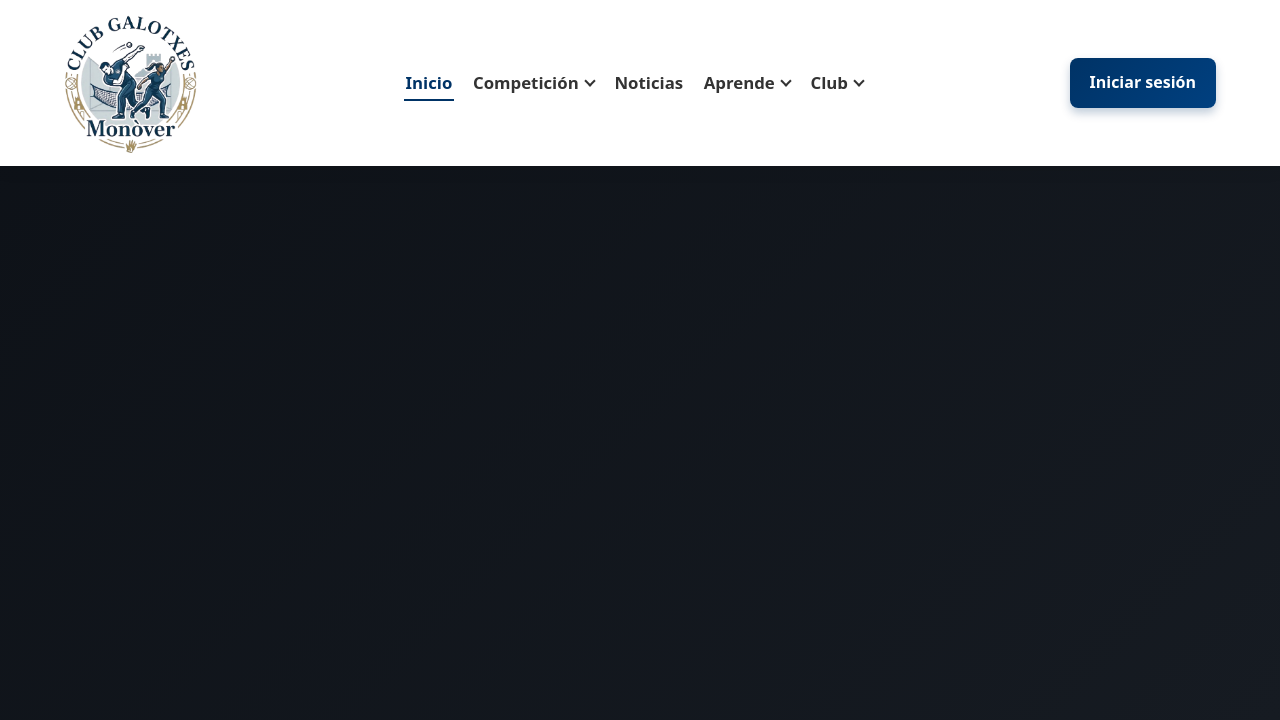
Navbar › opens each disclosure with its canonical children and keeps only one open
This screenshot has width=1280, height=720.
Click the button "Competición" at (533, 83), box [471,61,596,105]
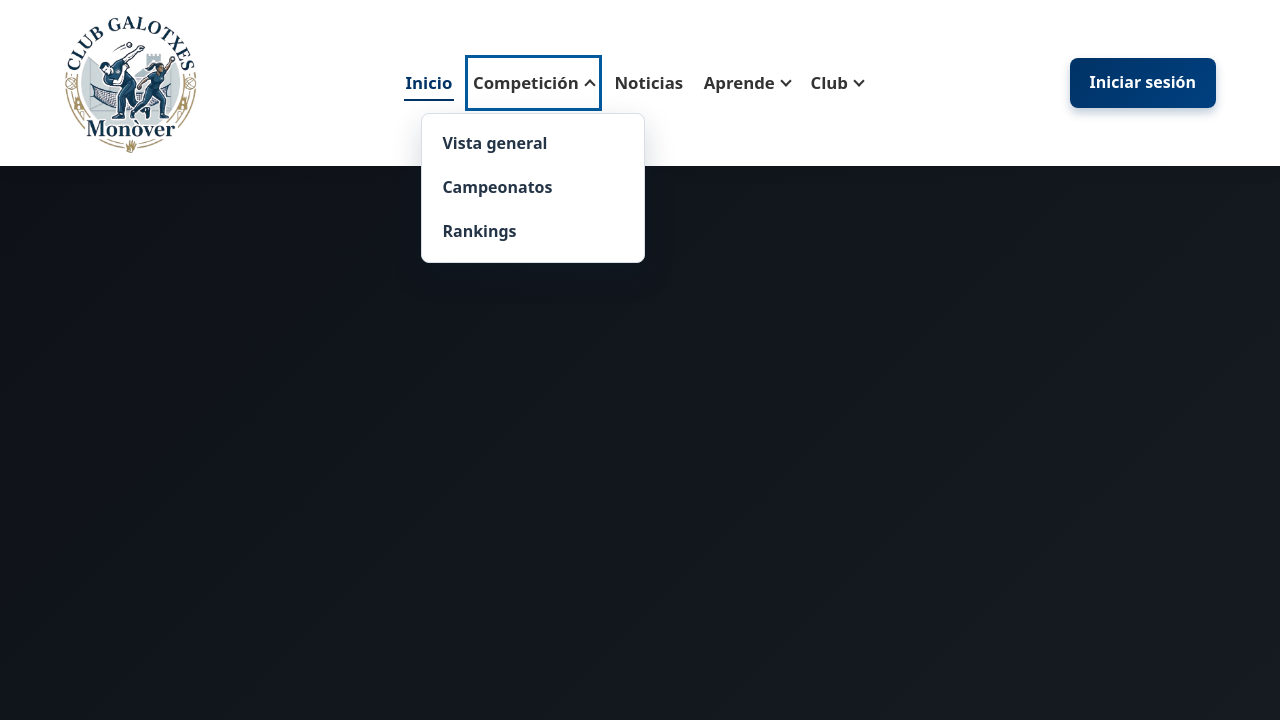
Check: the button "Competición" is expanded, box [471,61,596,105]
Click the button "Aprende" at (747, 83), box [702,61,792,105]
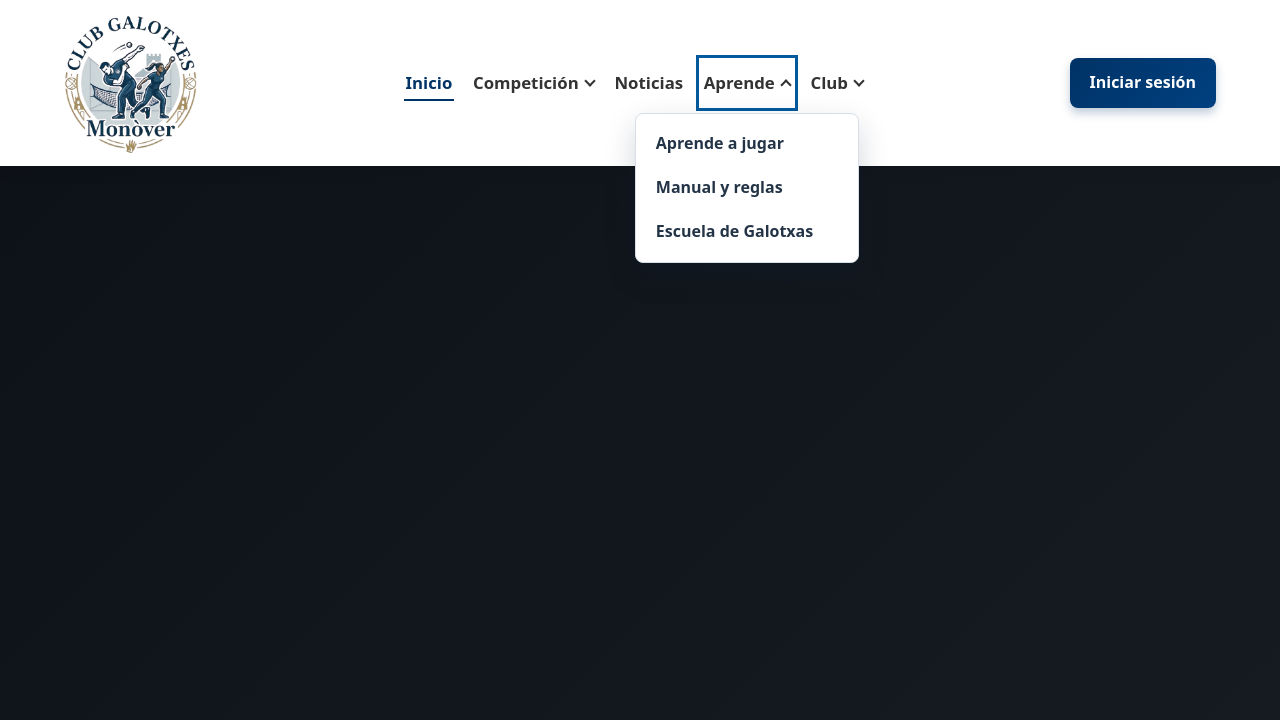
Check: the button "Competición" is collapsed, box [471,61,596,105]
Check: the button "Aprende" is expanded, box [702,61,792,105]
Click the button "Club" at (837, 83), box [808,61,865,105]
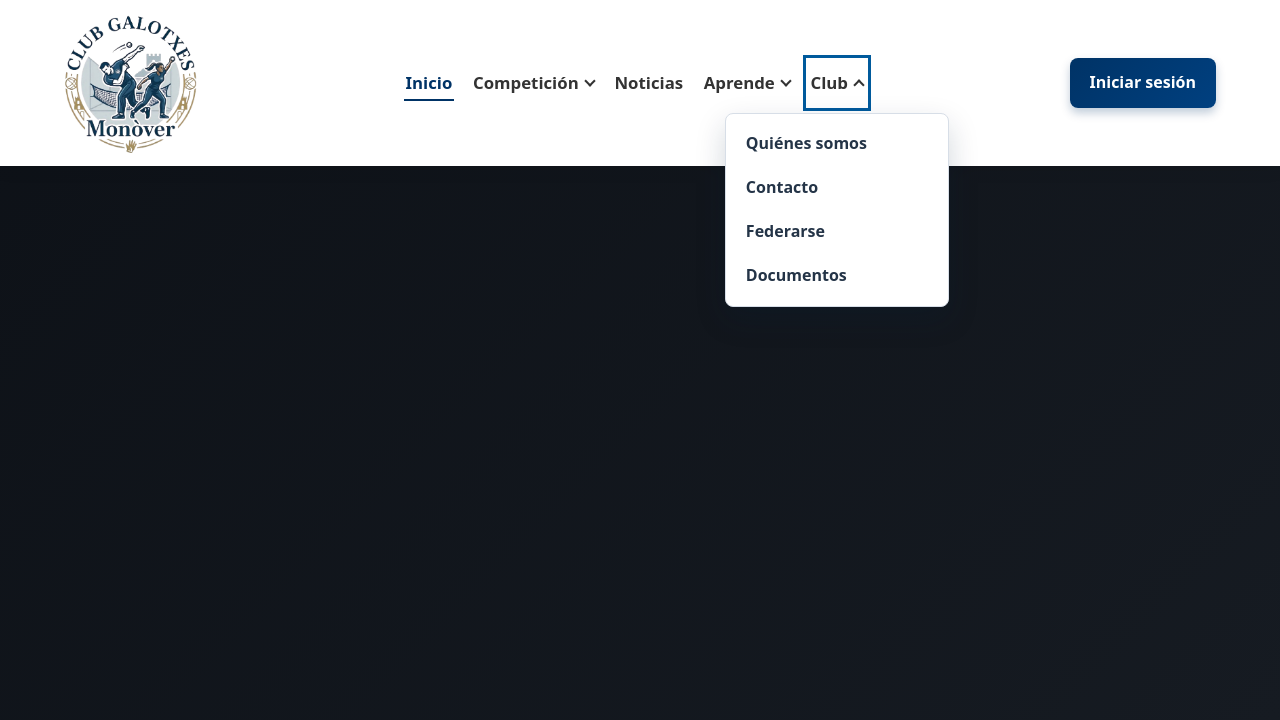
Check: the button "Aprende" is collapsed, box [702,61,792,105]
Check: the button "Club" is expanded, box [808,61,865,105]
